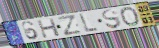6: (22, 21, 40, 41)
H: (36, 17, 62, 39)
L: (78, 13, 99, 33)
O: (119, 6, 142, 27)
S: (101, 8, 123, 29)
Z: (57, 14, 83, 37)
